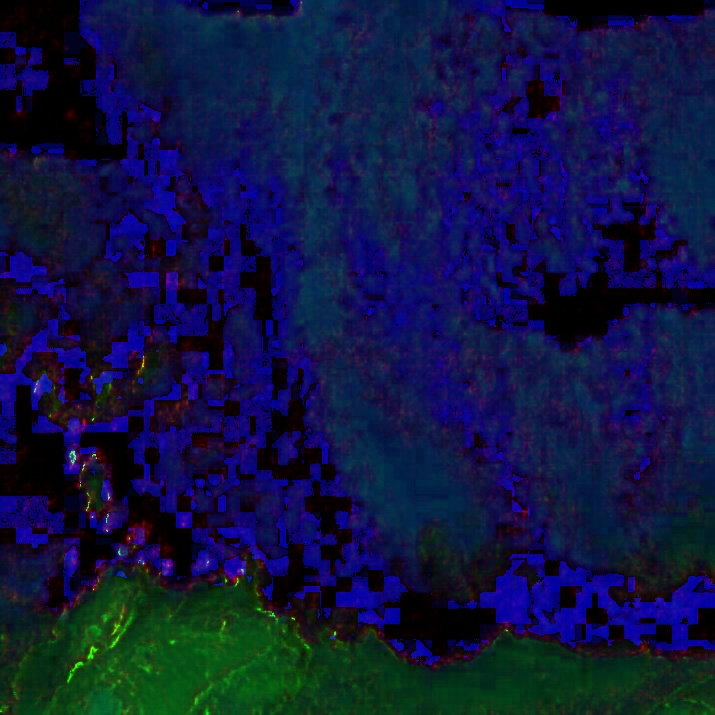rip_current: (214, 89, 602, 607)
